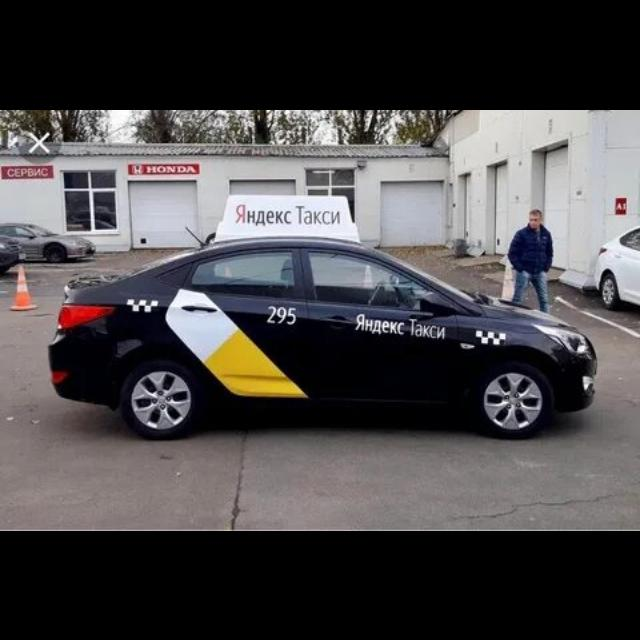taxi: (48, 193, 598, 441)
